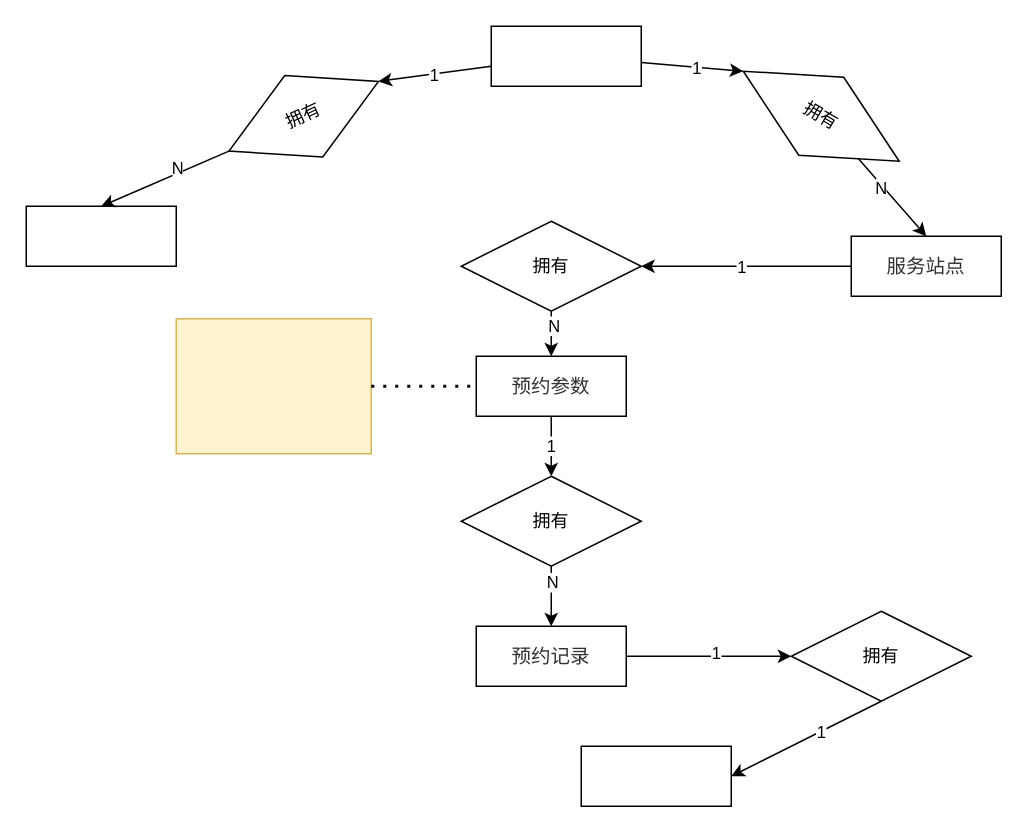
Image size: 1028x833. Some labels were removed from this diagram. The shapes that lost their labels are listed below. From the top down, each one's centre as x and y in pixels, then its label:
At point (565, 55): "服务大厅".
At point (100, 235): "短信模板".
At point (273, 385): "服务站点的叶子节点才能添加预约参数".
At point (655, 775): "支付订单".
